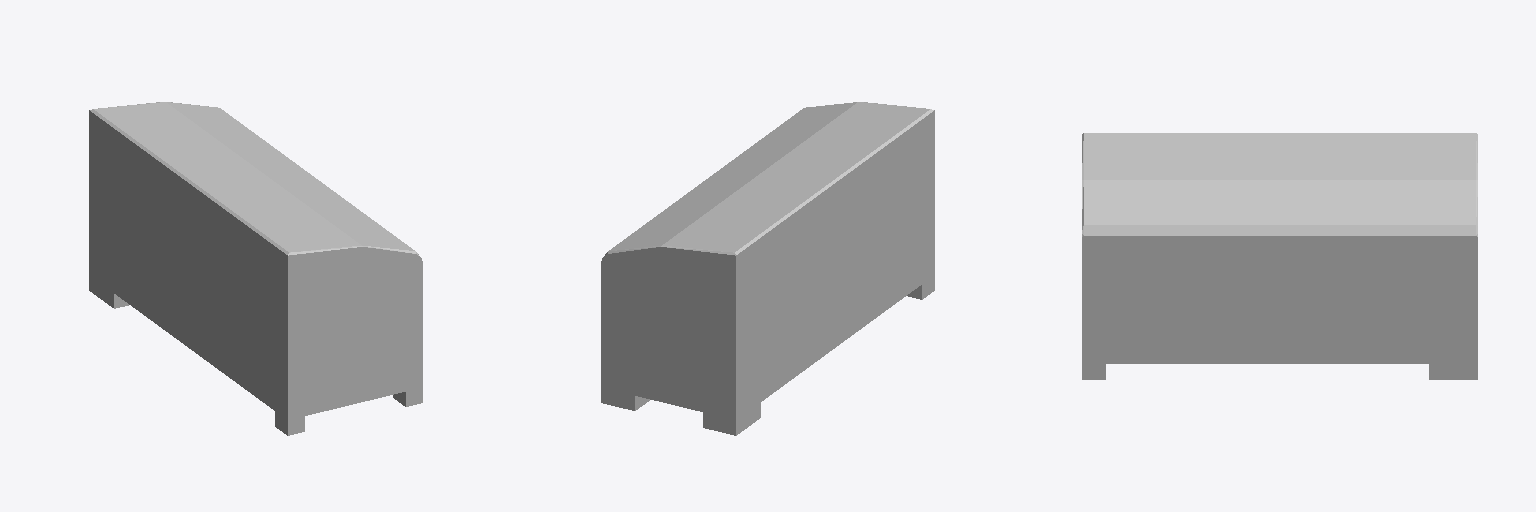
File: dumpster.obj
3 renders of one model, left to right at view 1: azimuth 30°, elevation 25°; view 2: azimuth 150°, elevation 25°; view 3: azimuth 270°, elevation 25°, orthographic.
Visible parts, largest first — view 1: dumpster; view 2: dumpster; view 3: dumpster.
Part boxes in pixels (bbox=[...]): dumpster: bbox=[89, 102, 422, 435]; dumpster: bbox=[601, 102, 934, 435]; dumpster: bbox=[1082, 133, 1477, 379].
Bounding box in the file's own units: 4.53 × 5.84 × 11.54.